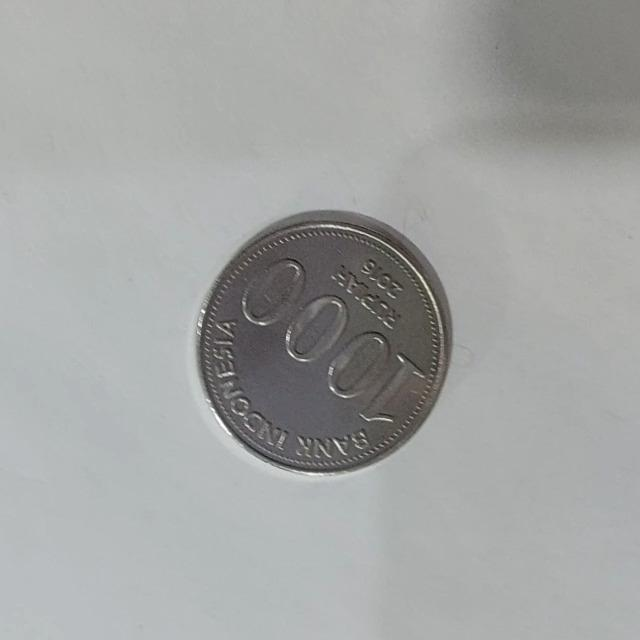Rp100: (193, 207, 454, 477)
